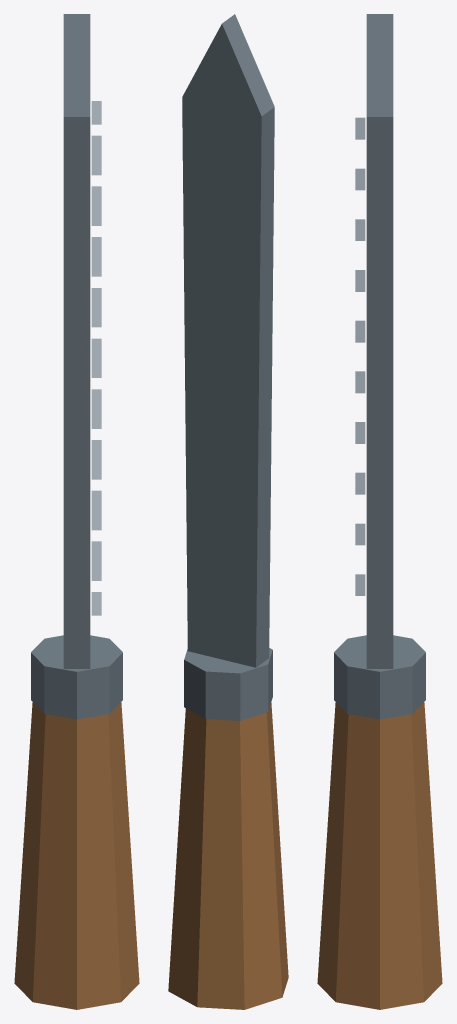
File: b06_wood_rasp.glb
The picture shows the model from 3 angles, left to right: view 1: azimuth 90°, elevation 25°; view 2: azimuth 150°, elevation 25°; view 3: azimuth 270°, elevation 25°; orthographic projection.
Parts seen in each view (by area): view 1: b06_wood_rasp; view 2: b06_wood_rasp; view 3: b06_wood_rasp.
Boxes of the visible parts, box(x1,y1,x2,y2) form: b06_wood_rasp: box(14, 14, 139, 1009); b06_wood_rasp: box(168, 14, 288, 1009); b06_wood_rasp: box(317, 14, 442, 1009).
Bounding box in the file's own units: 0.038 × 0.325 × 0.038.
